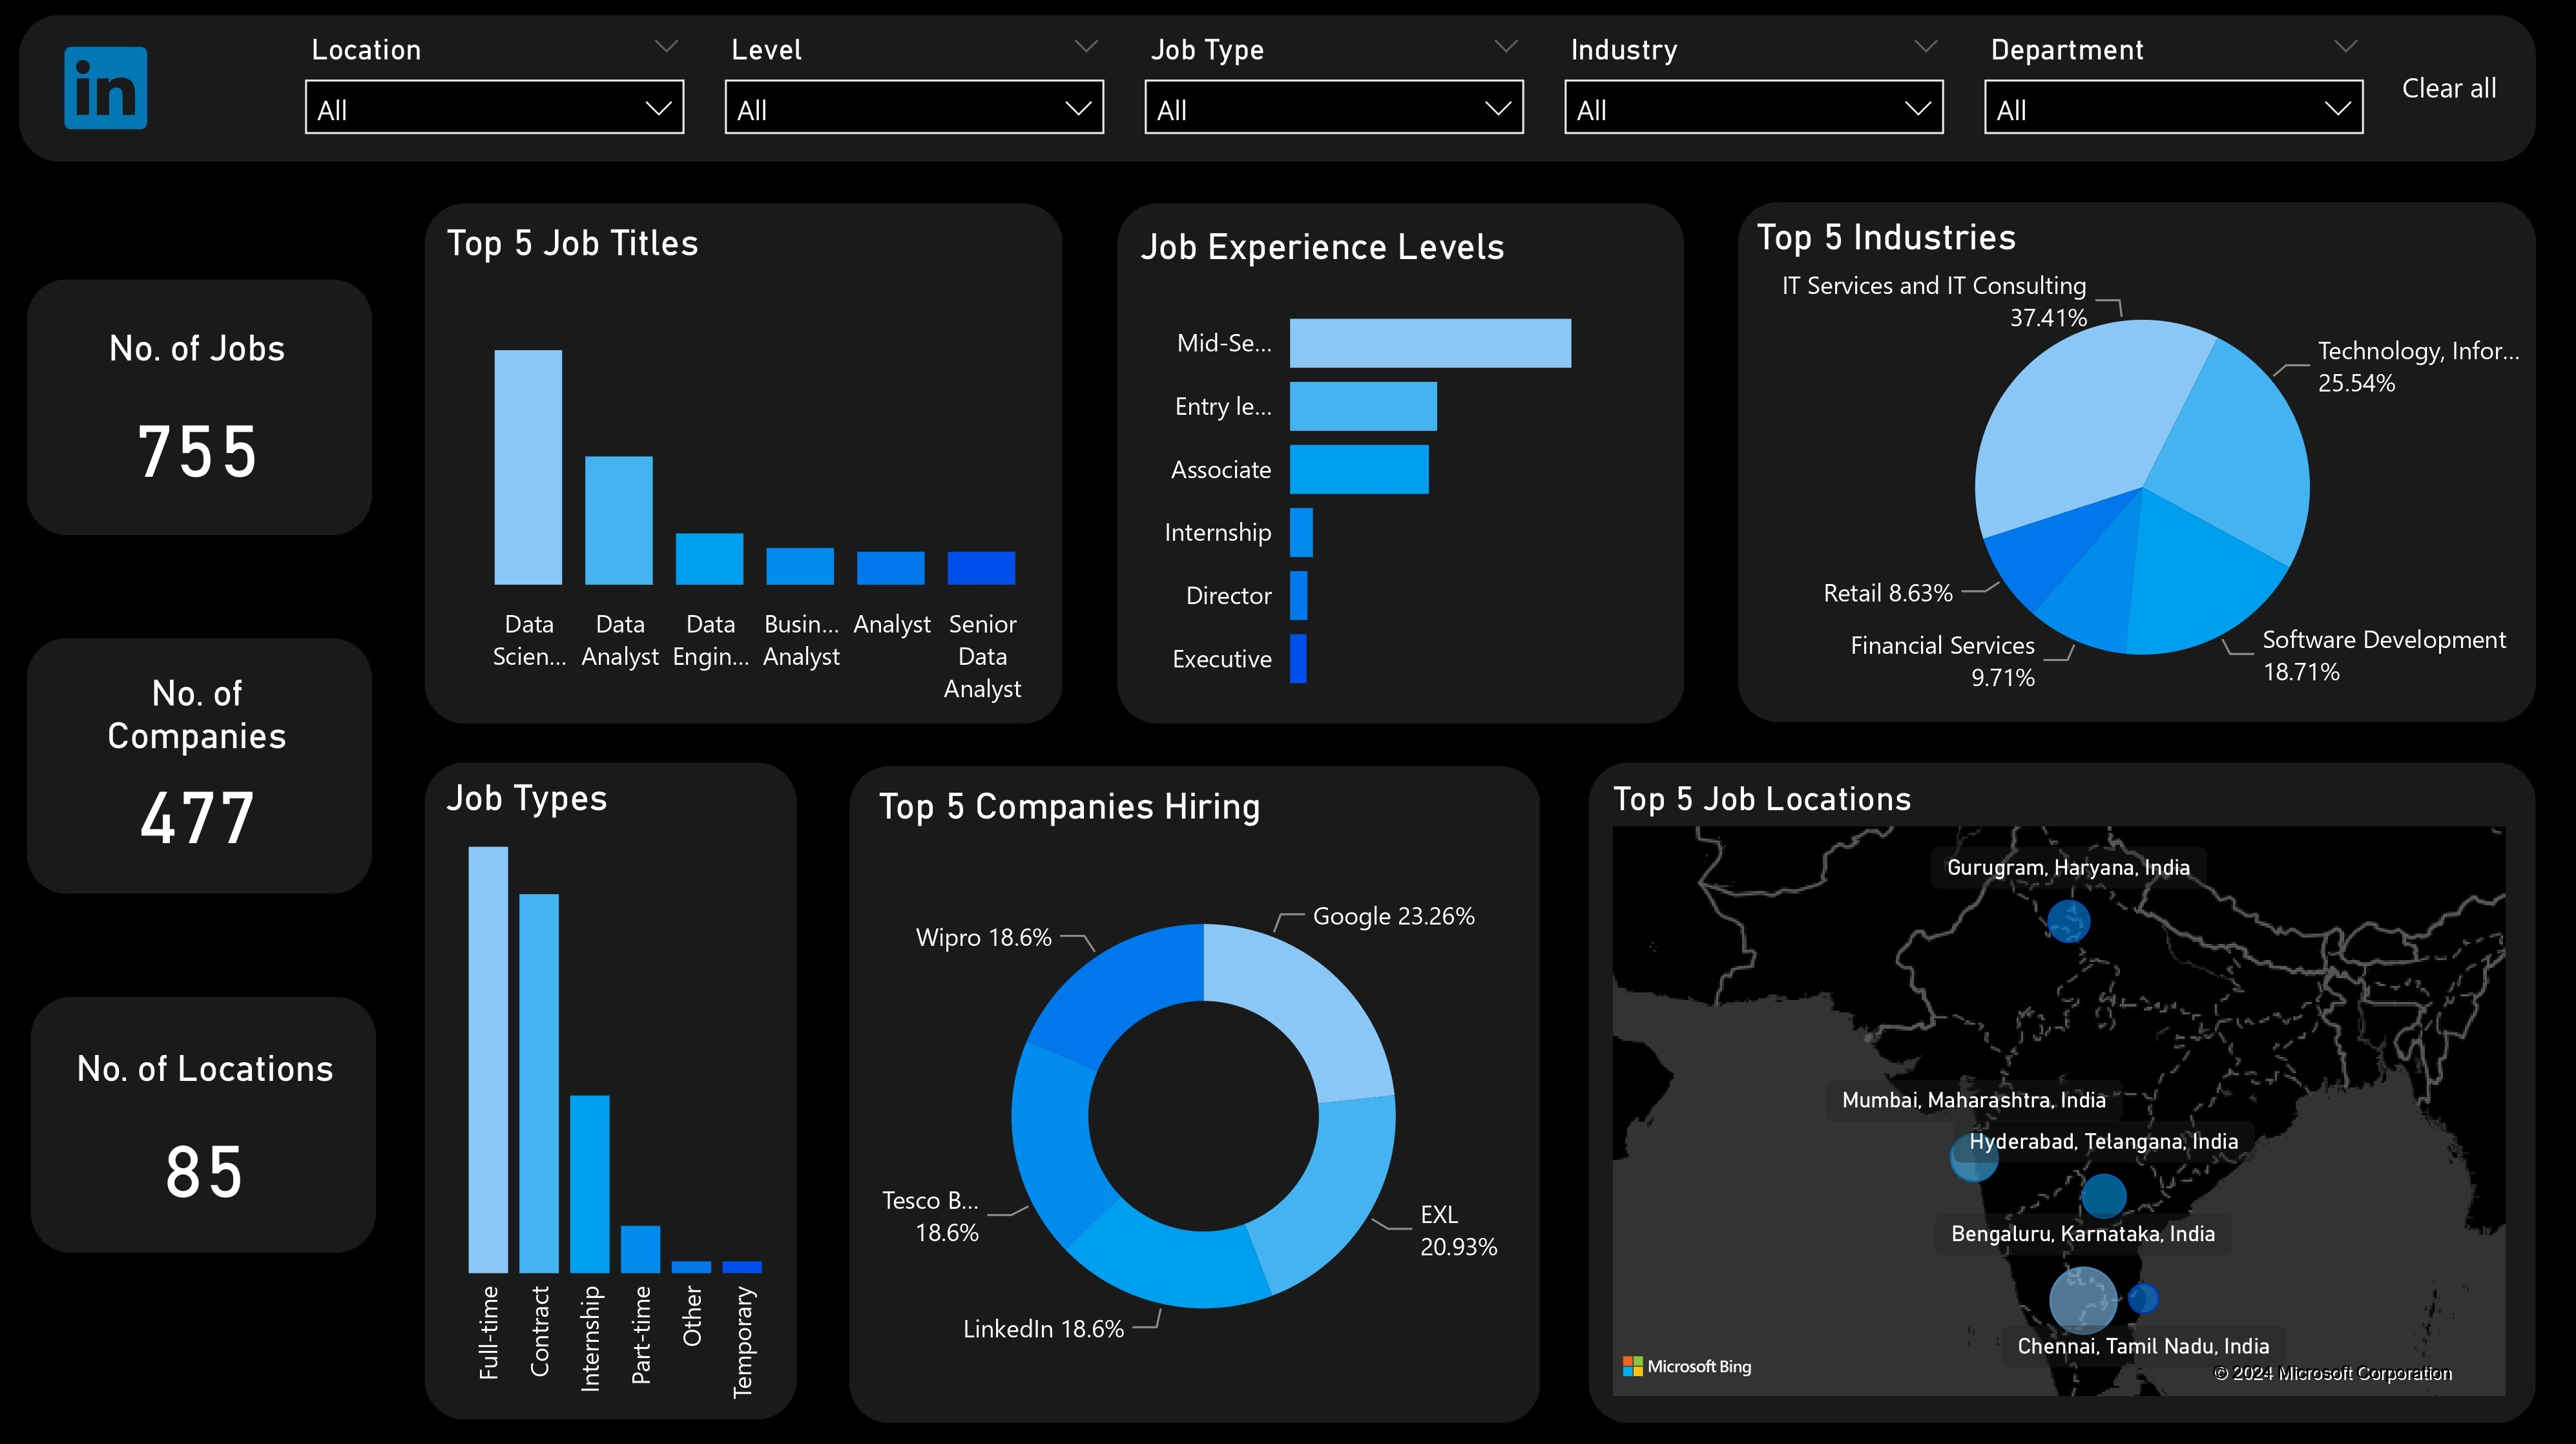

Layout of this report page (visuals, bound fields, positions):
{"tool":"powerbi","page":{"name":"Dashboard","canvas":[1280,720],"ordinal":0},"visuals":[{"type":"slicer","title":"Loaction","fields":{"Values":["linkedin_Scraped_data.Location"]},"box":[144,12.5,208,64],"z":0,"group":"g1"},{"type":"columnChart","title":"Top 5 Job Titles","fields":{"Category":["linkedin_Scraped_data.Job_Title"],"Y":["CountNonNull(linkedin_Scraped_data.Job_Title)"],"Series":["linkedin_Scraped_data.Job_Title"]},"box":[219.1,110.8,311.4,247.4],"z":0},{"type":"barChart","title":"Job Experience Levels","fields":{"Category":["linkedin_Scraped_data.Level"],"Y":["CountNonNull(linkedin_Scraped_data.Level)"],"Series":["linkedin_Scraped_data.Level"]},"box":[563.5,112.7,264.3,244.9],"z":1000},{"type":"slicer","fields":{"Values":["linkedin_Scraped_data.Level"]},"box":[352,12.5,208,64],"z":2000,"group":"g1"},{"type":"pieChart","title":"Top 5 Industries","fields":{"Category":["linkedin_Scraped_data.Industry"],"Y":["CountNonNull(linkedin_Scraped_data.Industry)"]},"box":[867.7,108.3,392.6,248.6],"z":2000},{"type":"columnChart","title":"Job Types","fields":{"Category":["linkedin_Scraped_data.Job Type"],"Y":["CountNonNull(linkedin_Scraped_data.Job Type)"],"Series":["linkedin_Scraped_data.Job Type"]},"box":[219.1,386.5,177.2,326.2],"z":3000},{"type":"slicer","fields":{"Values":["linkedin_Scraped_data.Industry"]},"box":[768,12.5,208,64],"z":4000,"group":"g1"},{"type":"map","title":"Top 5 Job Locations","fields":{"Category":["linkedin_Scraped_data.Location"],"Series":["linkedin_Scraped_data.Location"],"Size":["CountNonNull(linkedin_Scraped_data.Location)"]},"box":[797.2,386.8,452.2,311.7],"z":4000},{"type":"donutChart","title":"Top 5 Companies Hiring","fields":{"Category":["linkedin_Scraped_data.Company"],"Y":["CountNonNull(linkedin_Scraped_data.Company)"]},"box":[433.2,390.2,332.3,307.7],"z":5000},{"type":"slicer","fields":{"Values":["linkedin_Scraped_data.Job Type"]},"box":[560,12.5,208,64],"z":6000,"group":"g1"},{"type":"group","id":"g1","title":"Group 1","box":[144,12.5,1040,64],"z":6000},{"type":"card","title":"No. of Jobs","fields":{"Values":["CountNonNull(linkedin_Scraped_data.Job_Title)"]},"box":[27.8,162.8,144.7,96],"z":7000},{"type":"slicer","fields":{"Values":["linkedin_Scraped_data.Department"]},"box":[976,12.5,208,64],"z":8000,"group":"g1"},{"type":"card","title":"No. of Locations","fields":{"Values":["Count(linkedin_Scraped_data.Location)"]},"box":[32,520.3,144.7,96],"z":8000},{"type":"card","title":"No. of Companies","fields":{"Values":["Count(linkedin_Scraped_data.Company)"]},"box":[27.8,333.9,144.7,96],"z":9000},{"type":"actionButton","box":[1184,6.2,65.2,76.3],"z":10000}]}

Visuals, with their boxes in screenshot pixels (x1, y1, x2, y2), scaled from the page's 1280x720 canvas onto the 2576x1444 screenshot:
"Loaction" slicer: pyautogui.locateOnScreen(290, 25, 709, 153)
"Top 5 Job Titles" columnChart: pyautogui.locateOnScreen(441, 222, 1068, 718)
"Job Experience Levels" barChart: pyautogui.locateOnScreen(1134, 226, 1666, 717)
slicer - linkedin_Scraped_data.Level: pyautogui.locateOnScreen(709, 25, 1127, 153)
"Top 5 Industries" pieChart: pyautogui.locateOnScreen(1746, 217, 2537, 716)
"Job Types" columnChart: pyautogui.locateOnScreen(441, 775, 798, 1429)
slicer - linkedin_Scraped_data.Industry: pyautogui.locateOnScreen(1546, 25, 1964, 153)
"Top 5 Job Locations" map: pyautogui.locateOnScreen(1605, 776, 2515, 1401)
"Top 5 Companies Hiring" donutChart: pyautogui.locateOnScreen(872, 782, 1541, 1399)
slicer - linkedin_Scraped_data.Job Type: pyautogui.locateOnScreen(1127, 25, 1546, 153)
"Group 1" group: pyautogui.locateOnScreen(290, 25, 2383, 153)
"No. of Jobs" card: pyautogui.locateOnScreen(56, 326, 347, 519)
slicer - linkedin_Scraped_data.Department: pyautogui.locateOnScreen(1964, 25, 2383, 153)
"No. of Locations" card: pyautogui.locateOnScreen(65, 1043, 356, 1236)
"No. of Companies" card: pyautogui.locateOnScreen(56, 669, 347, 862)
actionButton: pyautogui.locateOnScreen(2383, 12, 2514, 165)
